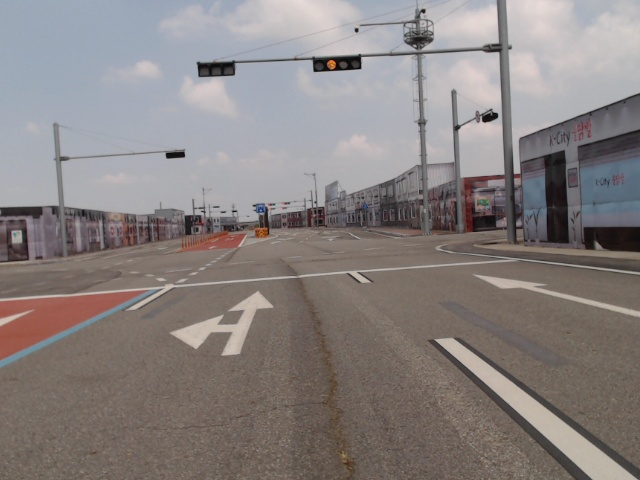orange_4: (312, 56, 363, 72)
